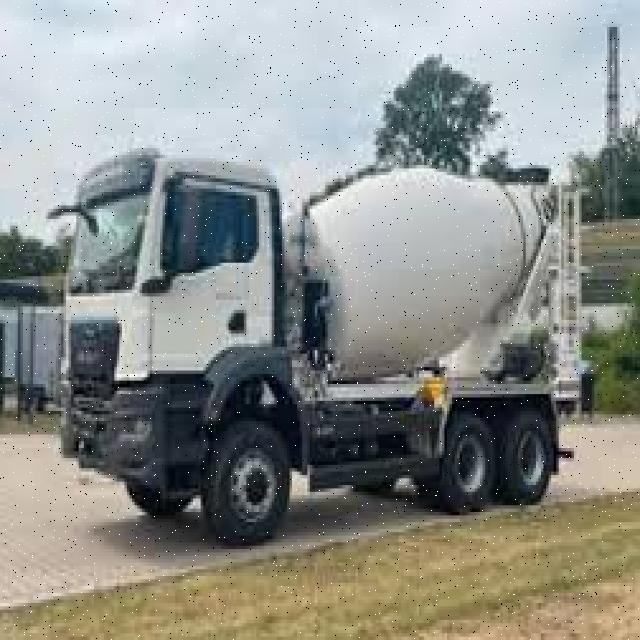Mixer Truck: (46, 144, 594, 546)
